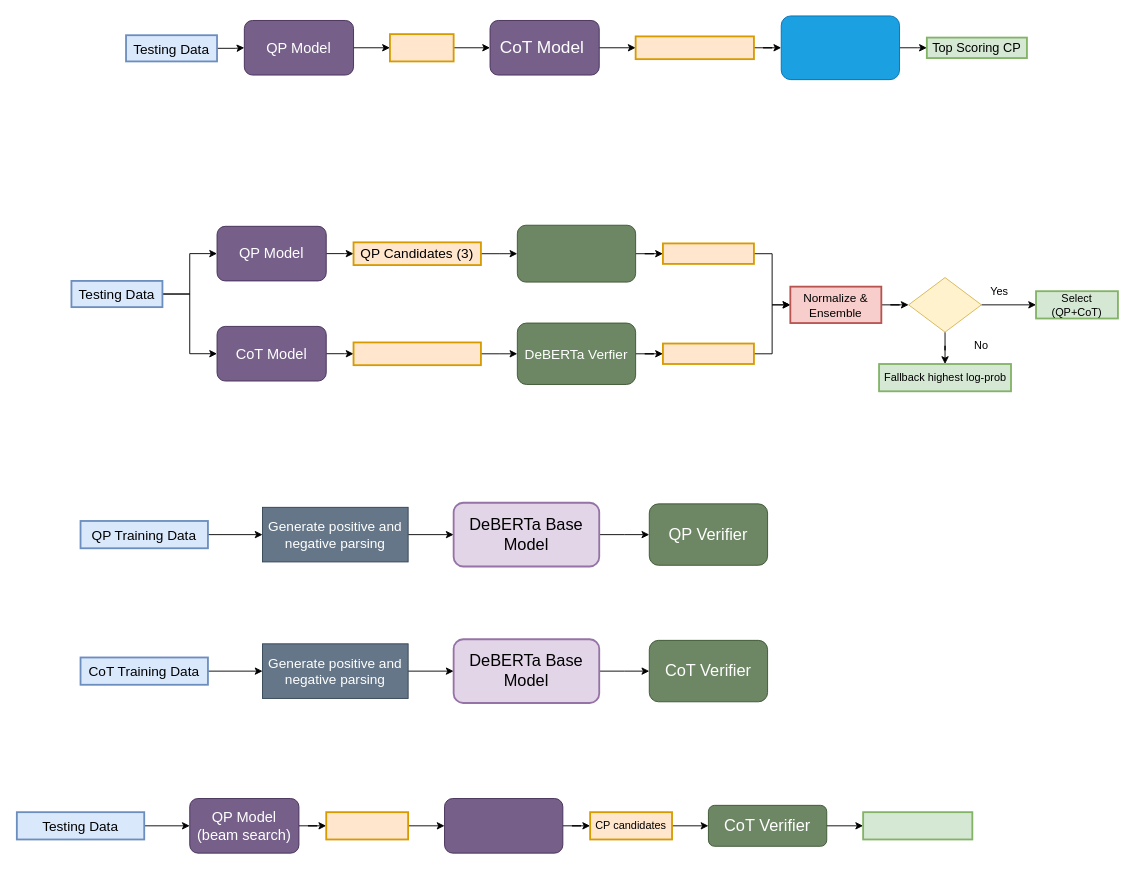
This 1134x869 diagram has some shape labels left out. The box of each missing label's shape, as (x1, y1, x2, y2) in pixels:
CoT Candidates (3): (352, 341, 481, 366)
CoT Model (beam+sample): (444, 798, 563, 853)
CoT scores: (662, 342, 754, 364)
DeBERTa Verifier: (516, 224, 636, 282)
Final Predictions: (862, 811, 973, 840)
Five CP candidates: (634, 35, 754, 60)
QP candidates: (325, 811, 409, 840)
QP List: (389, 33, 454, 62)
QP scores: (662, 242, 754, 264)
Reward Model: (780, 15, 900, 80)
score ≥ threshold: (908, 277, 981, 332)
